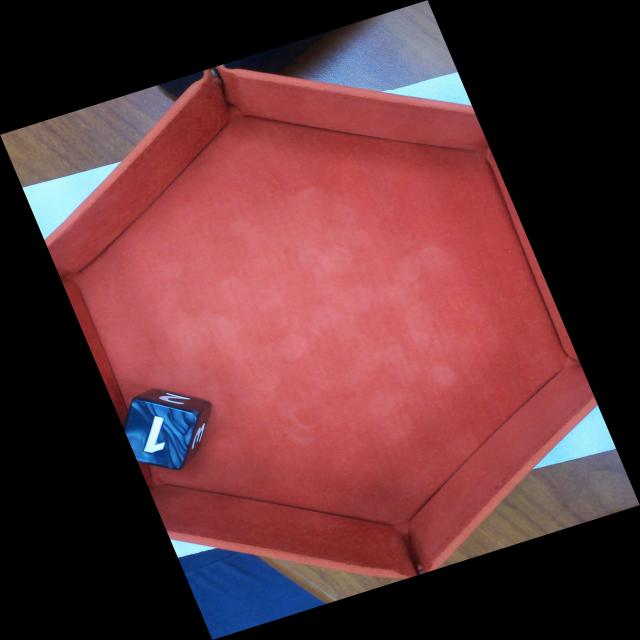dice: (124, 400, 195, 468)
